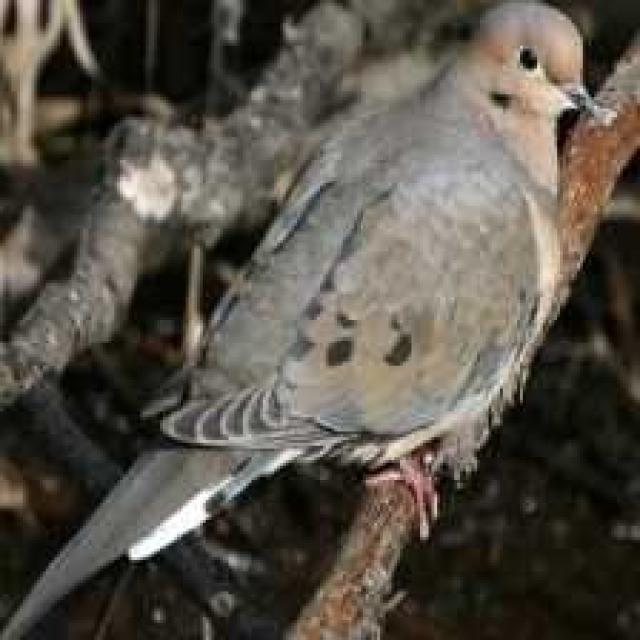dove: (0, 0, 623, 633)
